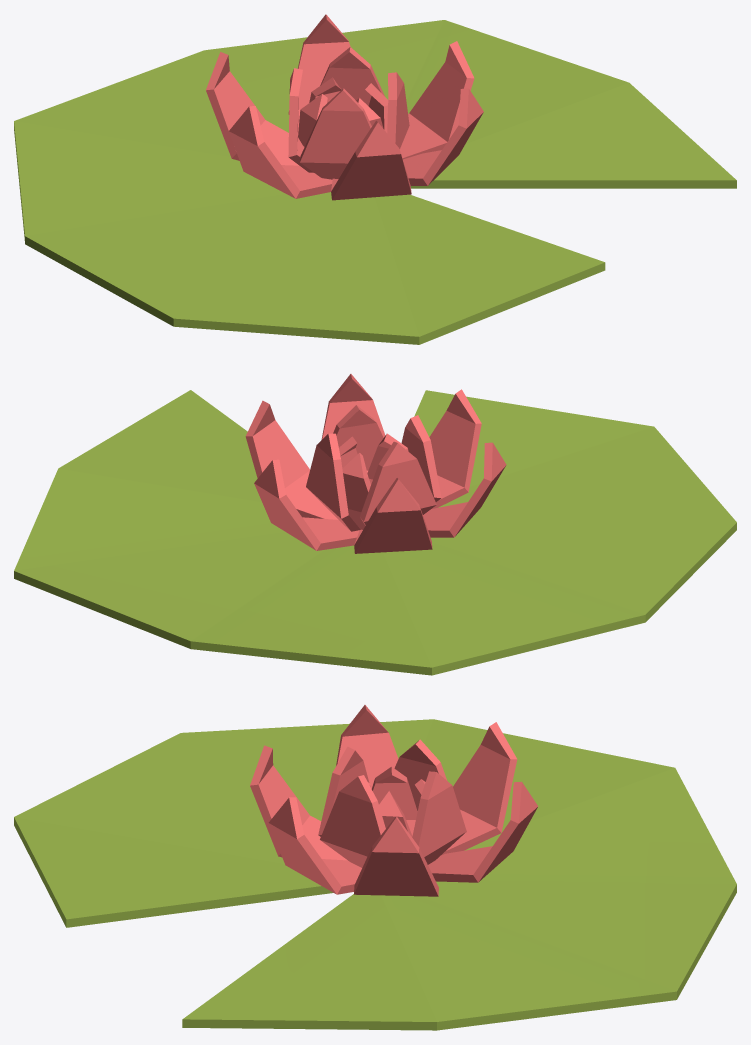
The model's file is Lillypad.fbx.
3 views of the same model, one above another, from view 1: azimuth 30°, elevation 25°; view 2: azimuth 150°, elevation 25°; view 3: azimuth 270°, elevation 25° (orthographic). The views are drawn at different scales.
Parts seen in each view (by area): view 1: Lilypad_Cylinder.016; view 2: Lilypad_Cylinder.016; view 3: Lilypad_Cylinder.016.
Boxes of the visible parts, <box> form: Lilypad_Cylinder.016: <box>14,14,736,344</box>; Lilypad_Cylinder.016: <box>14,374,736,675</box>; Lilypad_Cylinder.016: <box>14,705,736,1030</box>.
Size of the model in its own units: 120 by 22.09 by 119.
